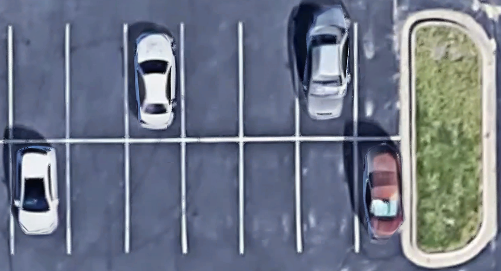Occupied: (295, 22, 356, 138), (9, 141, 70, 254), (125, 23, 184, 139), (355, 138, 412, 252)
Vacant: (7, 23, 69, 142), (66, 24, 128, 140), (182, 22, 242, 138), (67, 141, 129, 253), (352, 21, 411, 138), (240, 22, 298, 139), (298, 137, 357, 251), (184, 140, 243, 253), (241, 138, 300, 251), (126, 141, 185, 253)
